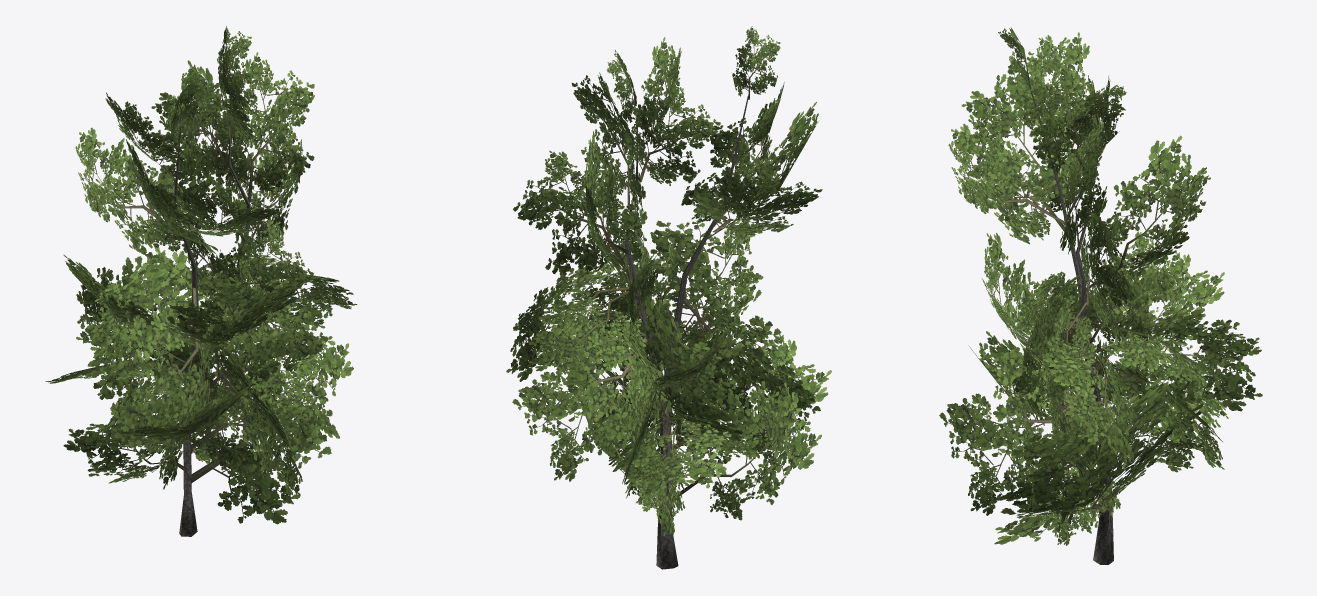
File: tree18.fbx
3 renders of one model, left to right at view 1: azimuth 30°, elevation 25°; view 2: azimuth 150°, elevation 25°; view 3: azimuth 270°, elevation 25°, orthographic. The views are drawn at different scales.
Visible parts, largest first — view 1: Tree-03-4; view 2: Tree-03-4; view 3: Tree-03-4.
Part boxes in pixels (x1=…): Tree-03-4: x1=45, y1=26, x2=357, y2=536; Tree-03-4: x1=506, y1=26, x2=831, y2=569; Tree-03-4: x1=939, y1=27, x2=1262, y2=564.
Size of the model in its own units: 459 by 641 by 437.
